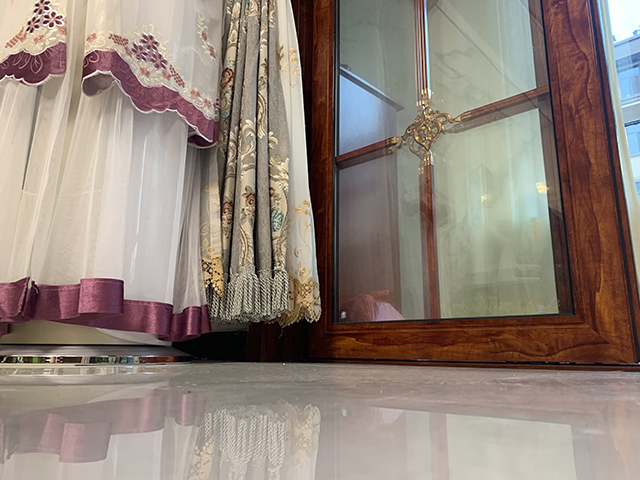curtain: (1, 1, 208, 328), (195, 1, 321, 329)
